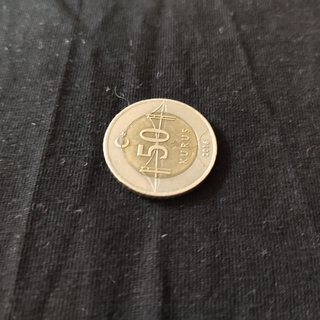50KURUS: (100, 96, 219, 201)
